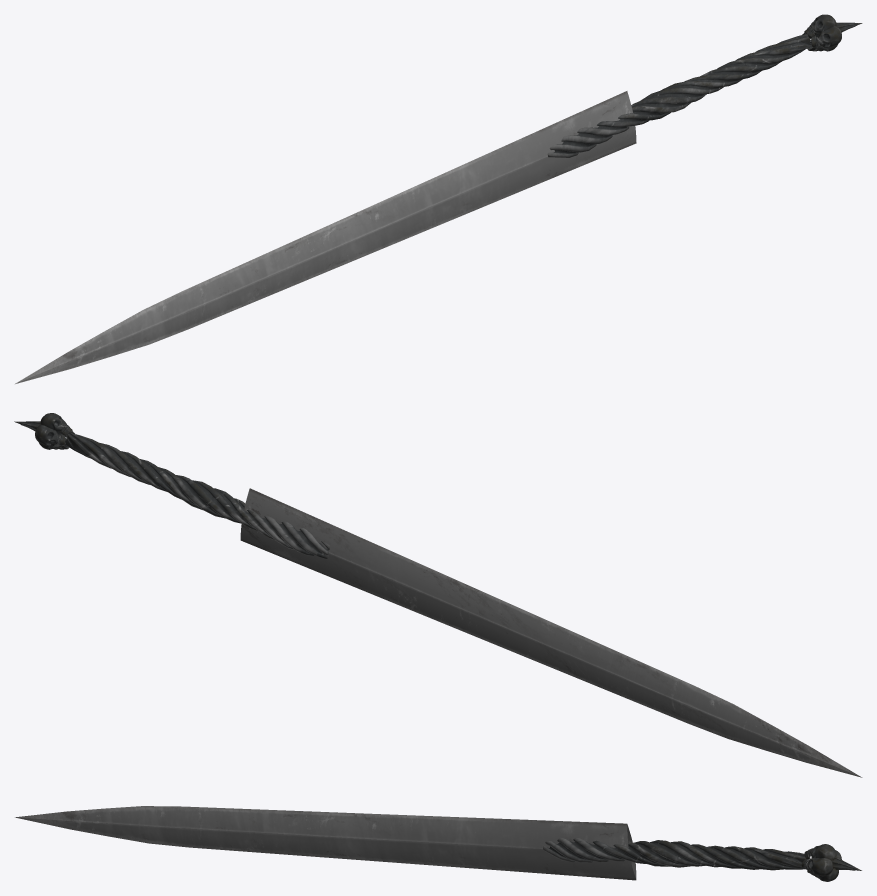
Rendered from edged-force.glb.
The picture shows the model from 3 angles, top to bottom: view 1: azimuth 30°, elevation 25°; view 2: azimuth 150°, elevation 25°; view 3: azimuth 330°, elevation 25°; orthographic projection.
Visible parts, largest first — view 1: ForceEdge_Blade_Geo_Low, ForceEdge_Handle_Geo_Low; view 2: ForceEdge_Blade_Geo_Low, ForceEdge_Handle_Geo_Low; view 3: ForceEdge_Blade_Geo_Low, ForceEdge_Handle_Geo_Low, Skull1_Low, Skull4_Low, HandleEnd_Low.
Part boxes in pixels (x1,y1,x2,y2): ForceEdge_Blade_Geo_Low: (15,91,636,383); ForceEdge_Handle_Geo_Low: (547,34,810,157); ForceEdge_Blade_Geo_Low: (240,488,862,777); ForceEdge_Handle_Geo_Low: (65,432,329,558); ForceEdge_Blade_Geo_Low: (15,806,636,880); ForceEdge_Handle_Geo_Low: (543,837,810,870); Skull1_Low: (805,857,833,876); Skull4_Low: (810,844,836,860); HandleEnd_Low: (831,857,861,870).
Size of the model in its own units: 121 by 22.83 by 4.7.
1 material, 1 textured.
